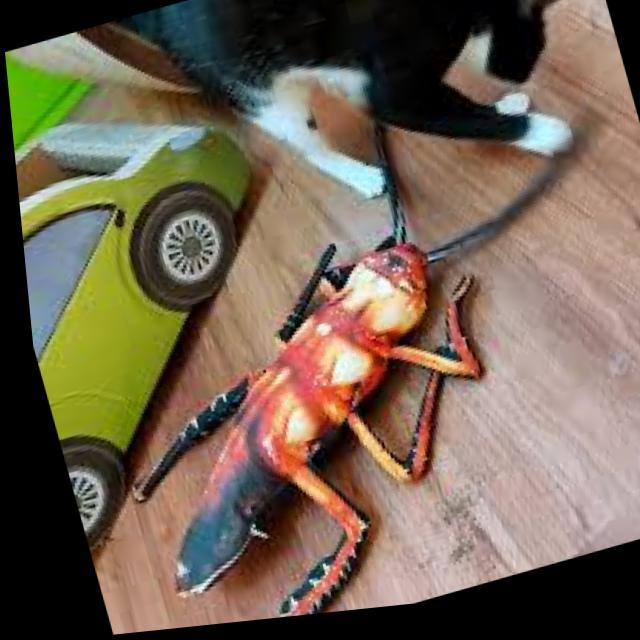Cockroach: (10, 82, 623, 640)
